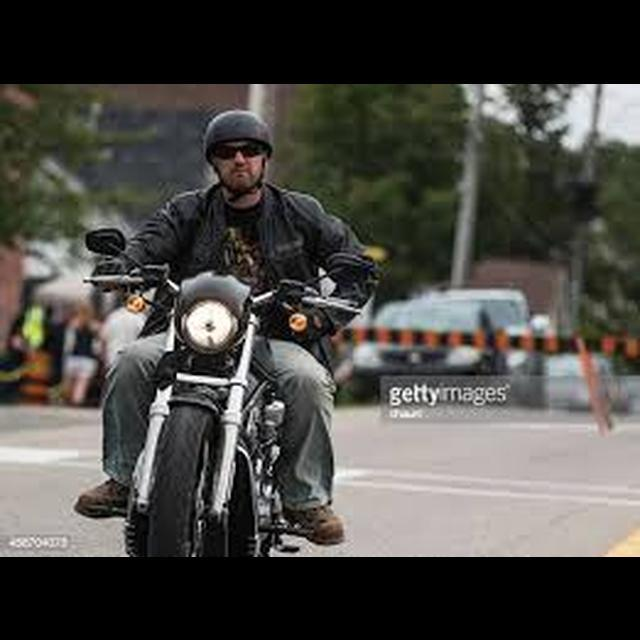motorcycle: (79, 221, 380, 554)
